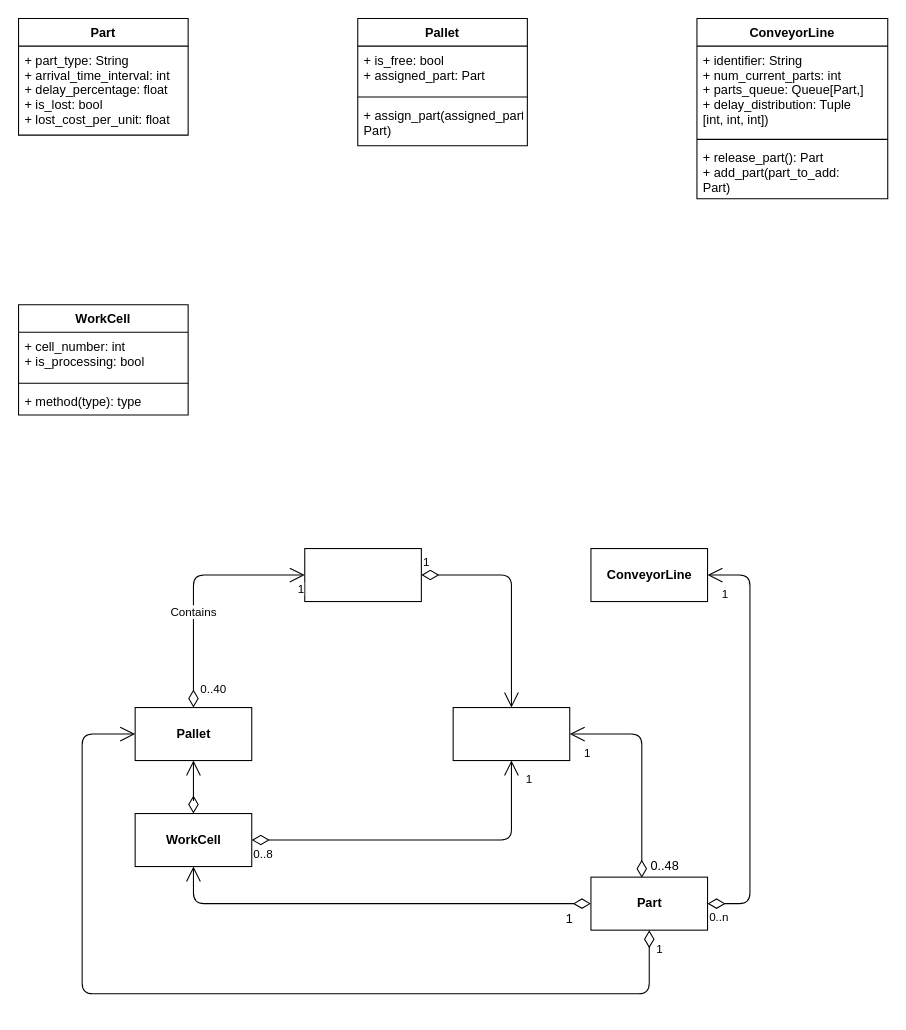
The diagram is 906 pixels wide and 1030 high, and some of its shapes have lost their labels. Each missing label, with the centre of its shape:
Palletmanager: point 362,574
TheSystem: point 511,733
